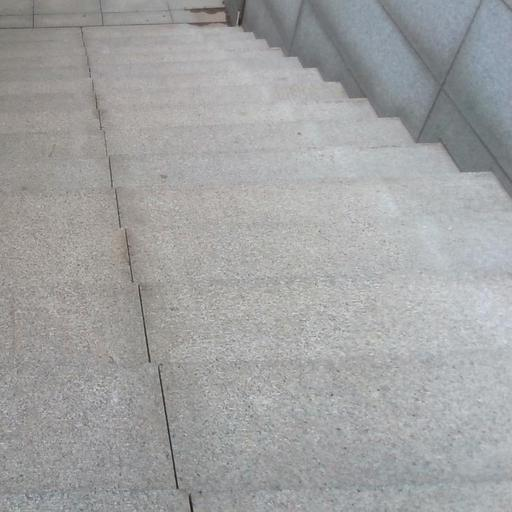stairs: (0, 25, 511, 511)
